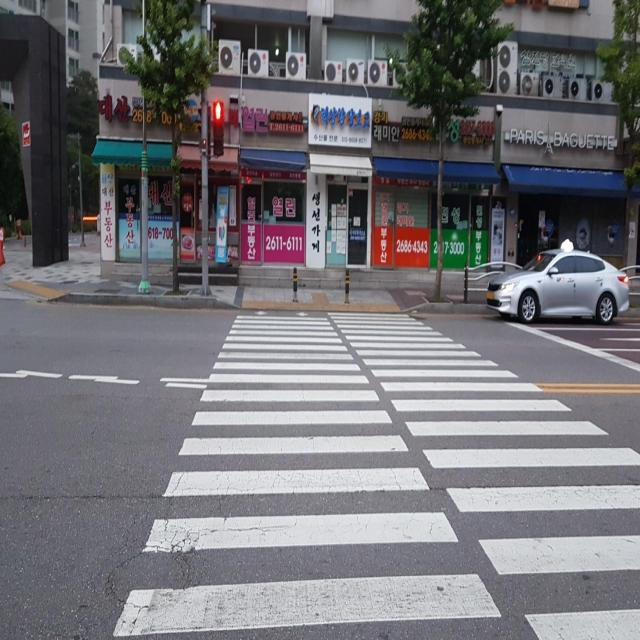횡단보도: (111, 309, 640, 639)
